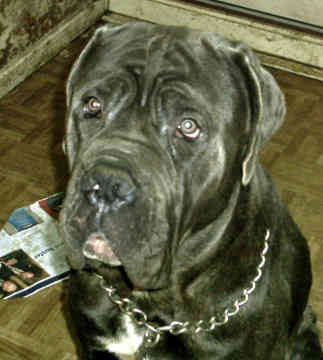neapolitan_mastiff: (57, 21, 323, 360)
